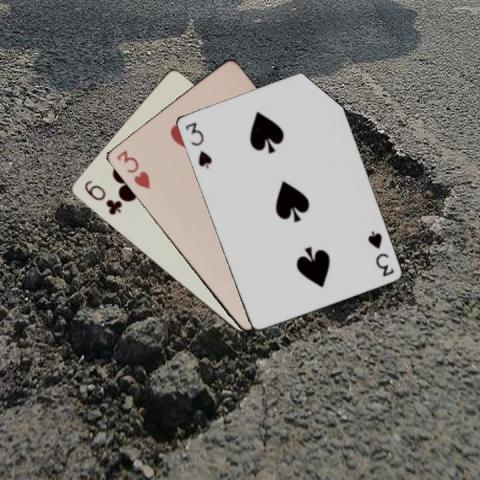3h: (114, 147, 152, 191)
3s: (364, 227, 395, 278), (182, 119, 213, 169)
6c: (81, 176, 123, 216)
